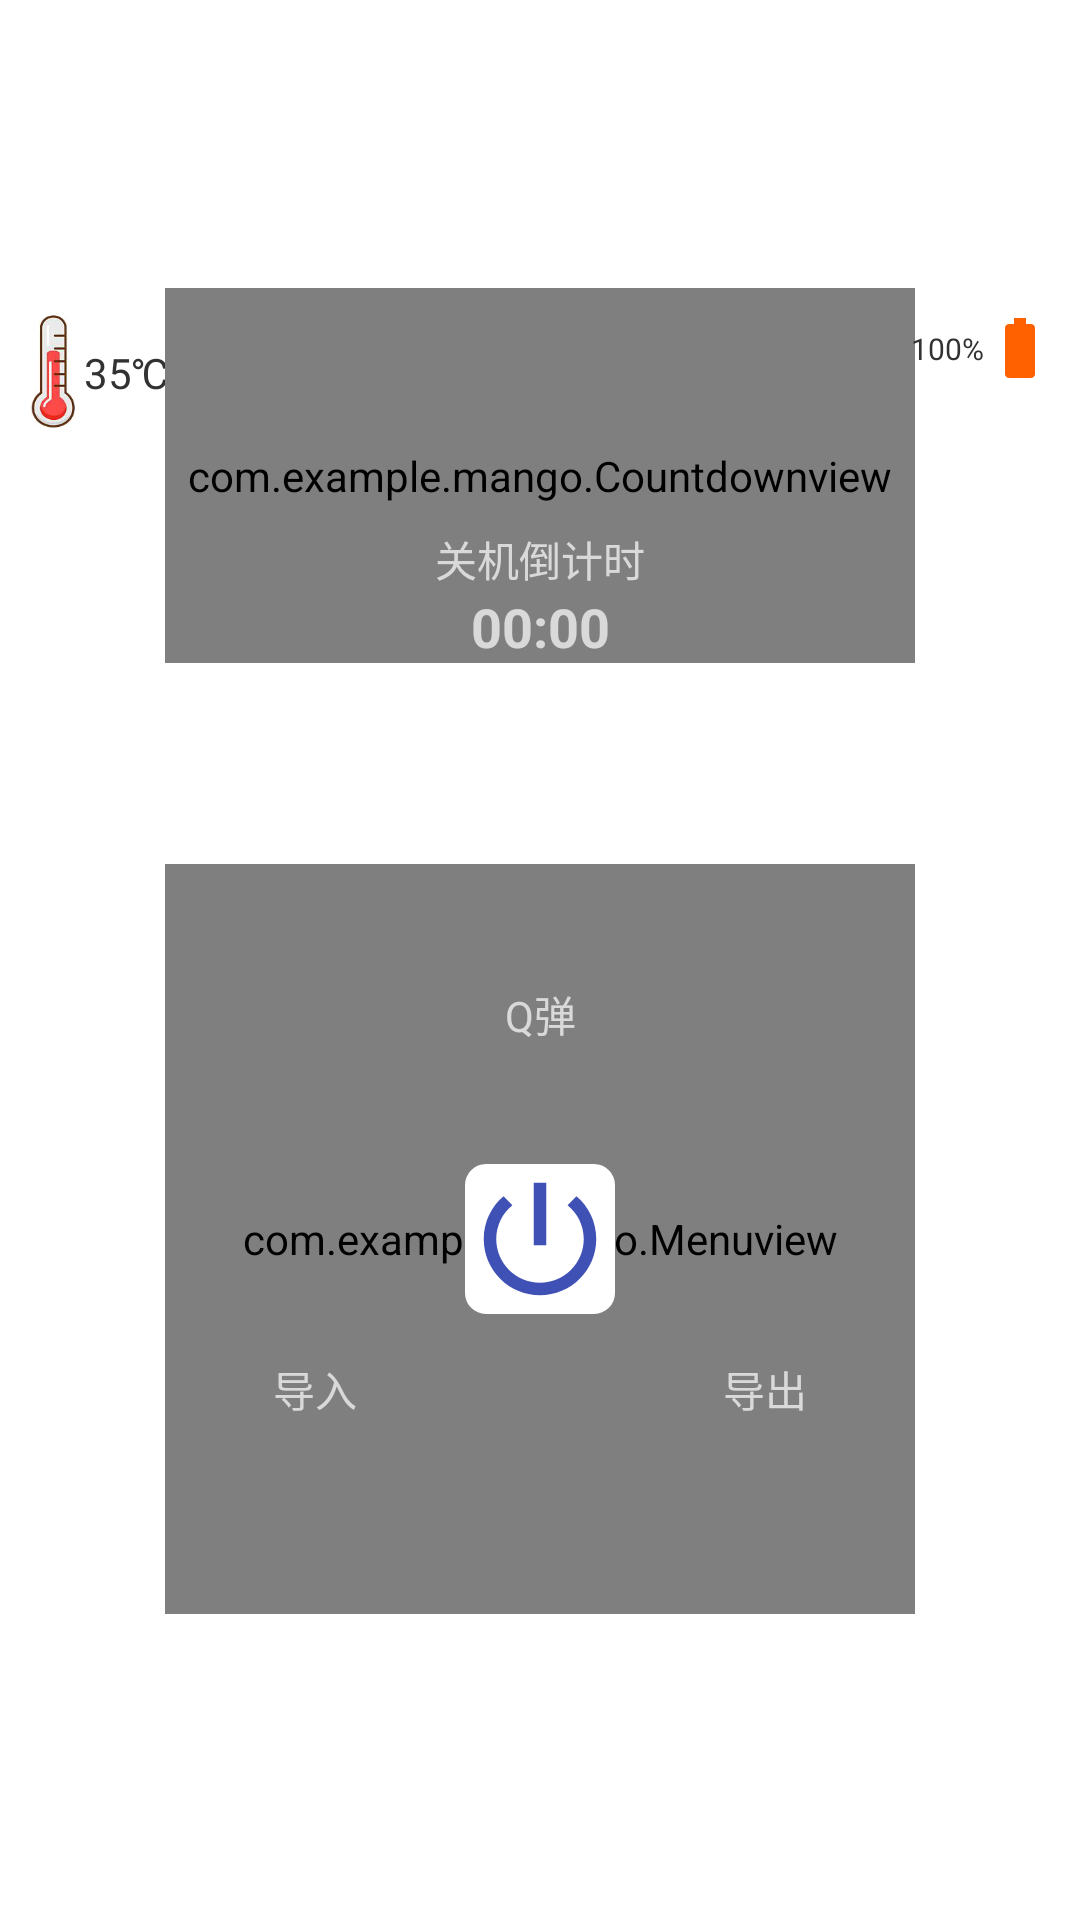

Point at icon controls on the screen. Image size 1080px x 1920px, points as [x,y].
battery full: [1020,348]
power settings: [540,1239]
